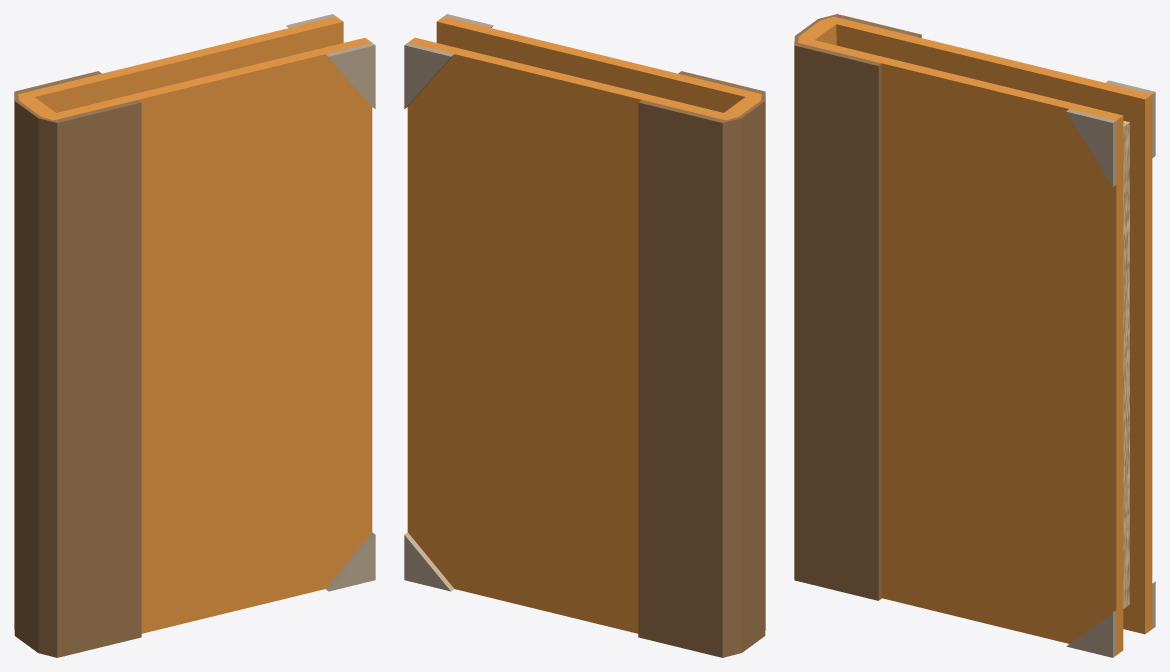
File: Kreckler_Orange.fbx
3 views of the same model, side by side, from view 1: azimuth 30°, elevation 25°; view 2: azimuth 150°, elevation 25°; view 3: azimuth 330°, elevation 25° (orthographic).
Parts seen in each view (by area): view 1: Orange; view 2: Orange; view 3: Orange.
Part boxes in pixels (<box>): Orange: <box>14,14,375,657</box>; Orange: <box>404,14,765,657</box>; Orange: <box>794,14,1155,657</box>.
Bounding box in the file's own units: 2.32 × 3.62 × 0.5282.
